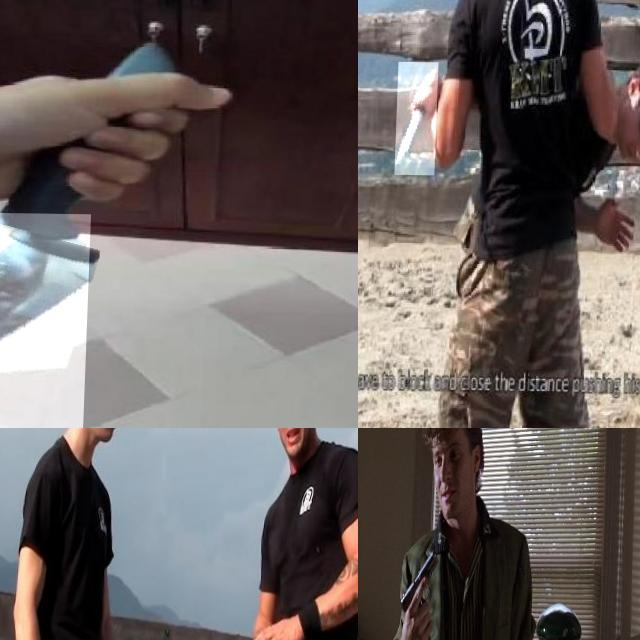-: (0, 210, 108, 428), (397, 62, 441, 175)
gun-knife-thesis - v11 Yolov5 augmented: (452, 428, 530, 515), (402, 548, 442, 634)
